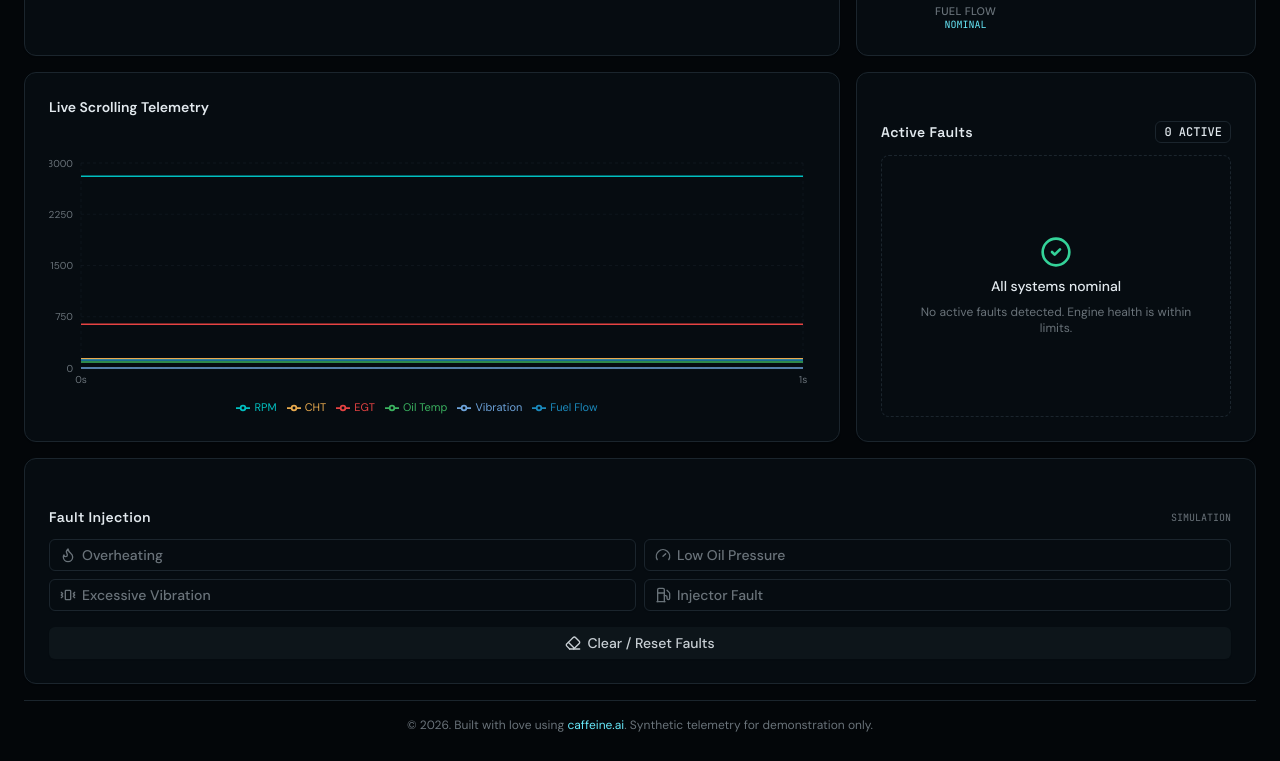
Test: DashboardPage › clearing faults restores the nominal alert state
(page scrolled)
Click the button with test id "fault_injector.overheating": click(122, 555) [49, 539, 636, 571]
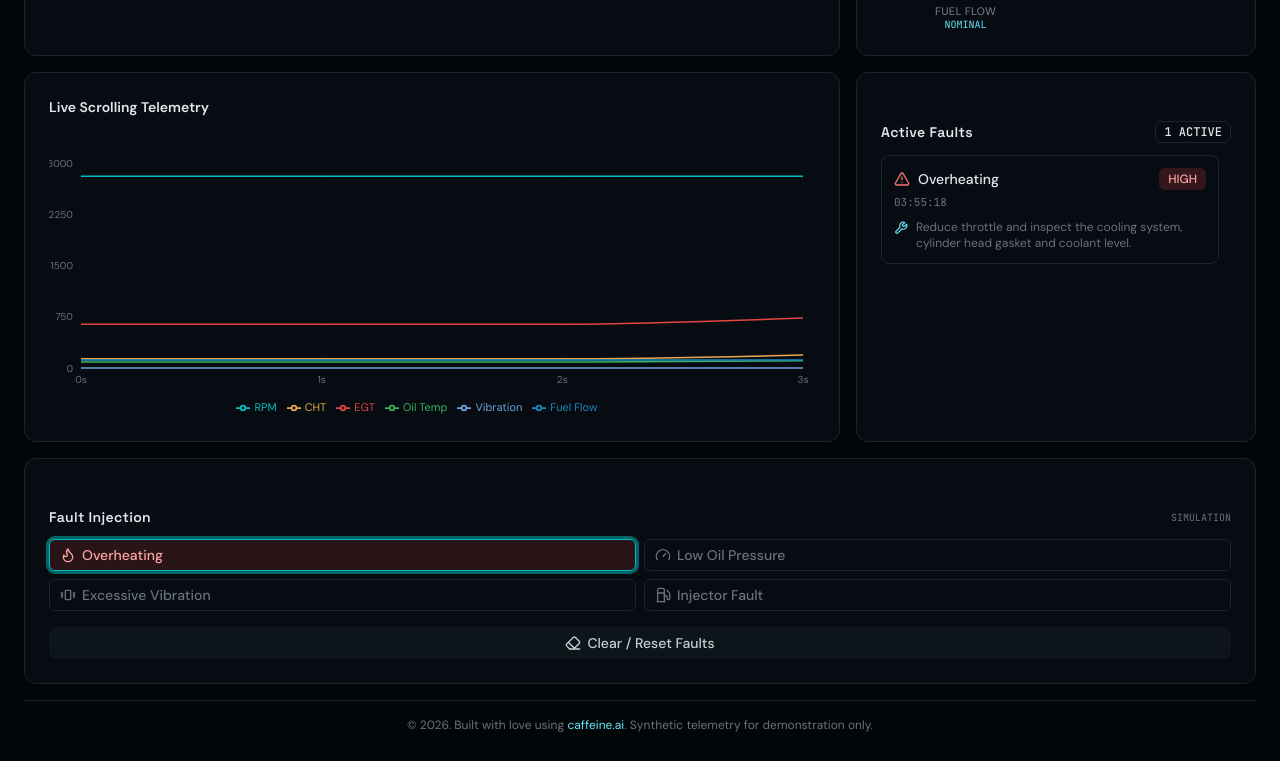
Result: the text "Overheating" is shown at [918, 169, 999, 189]
Click the button with test id "fault_injector.clear": click(640, 643) [49, 627, 1231, 659]
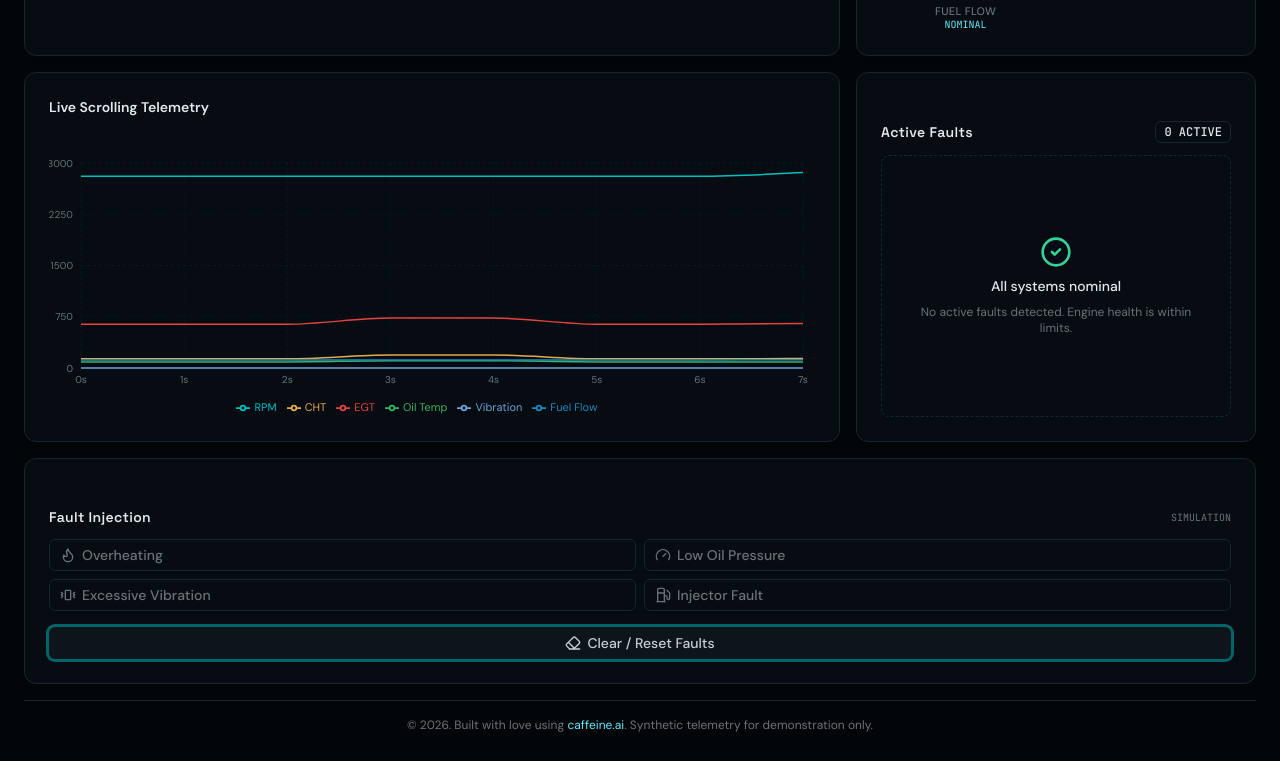
Result: the text "All systems nominal" is shown at [991, 276, 1121, 296]
